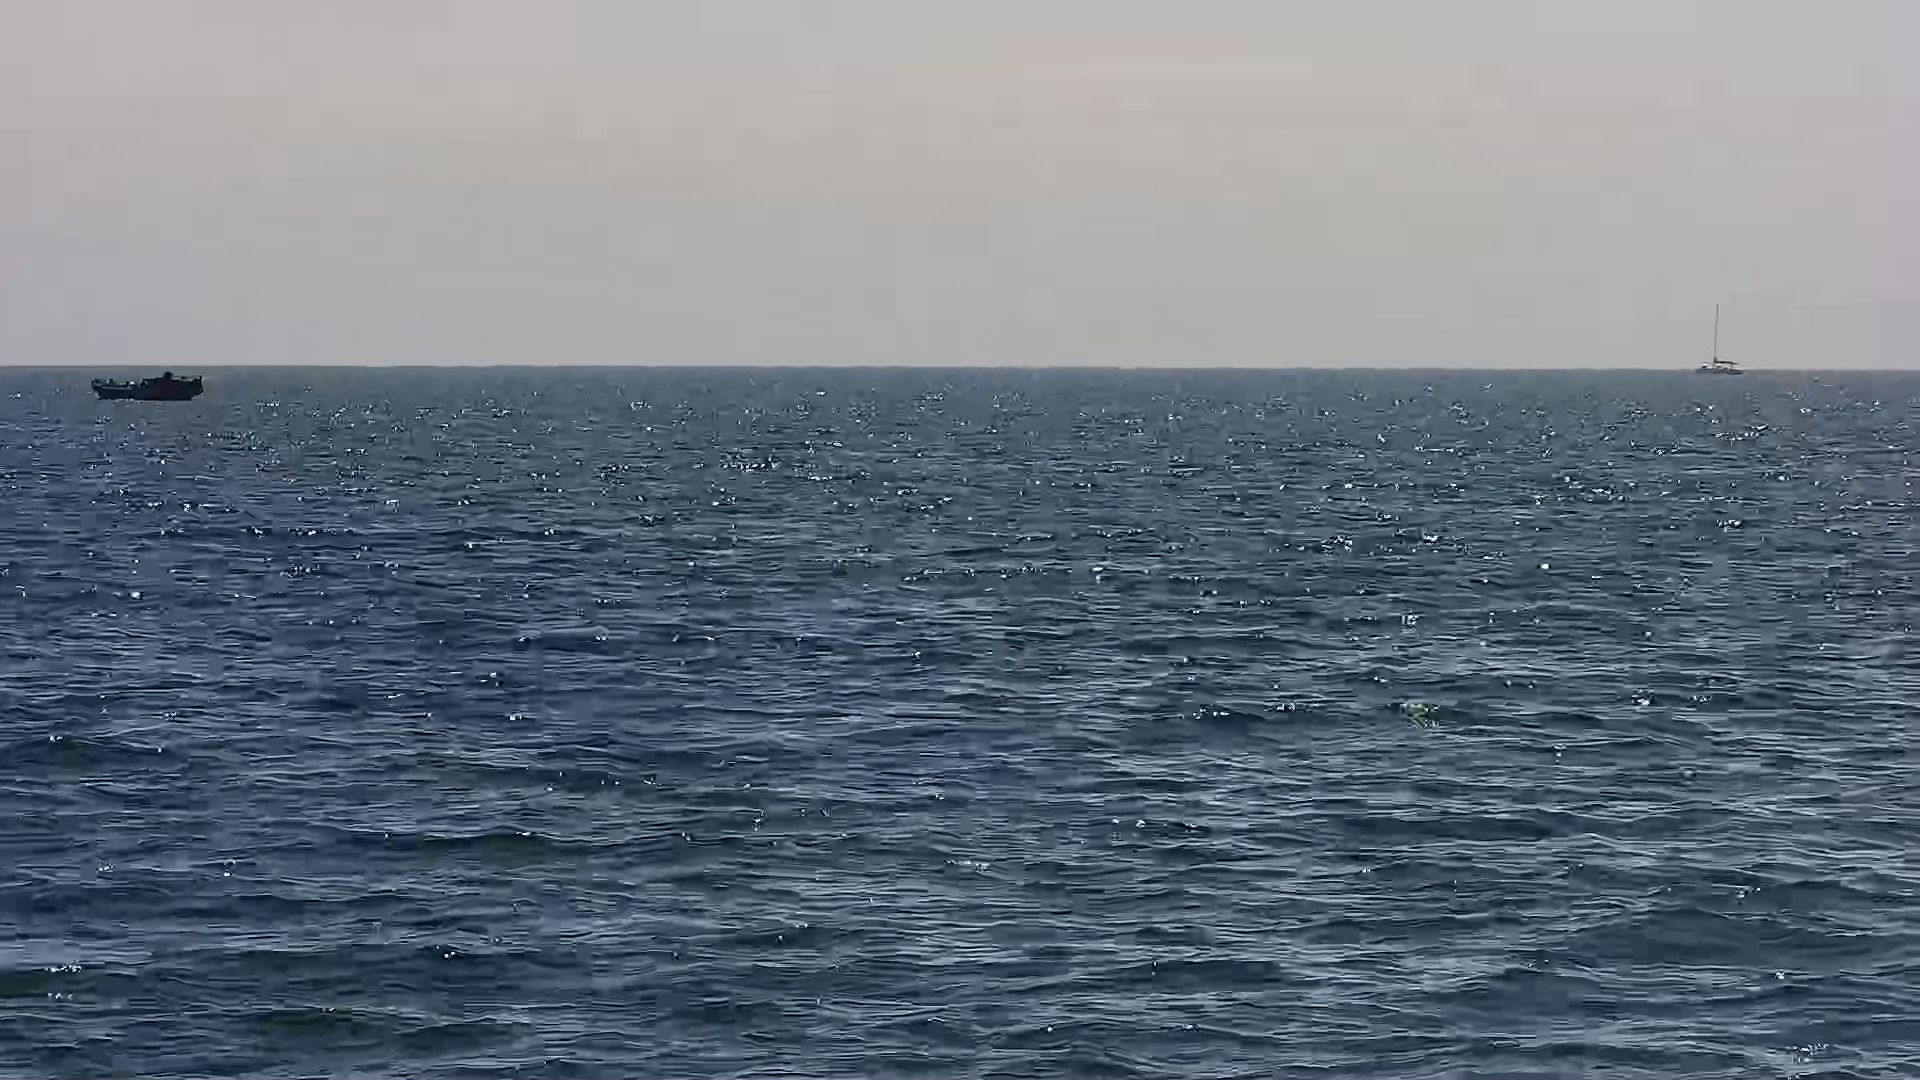boat: (84, 364, 203, 407), (1695, 306, 1743, 377)
